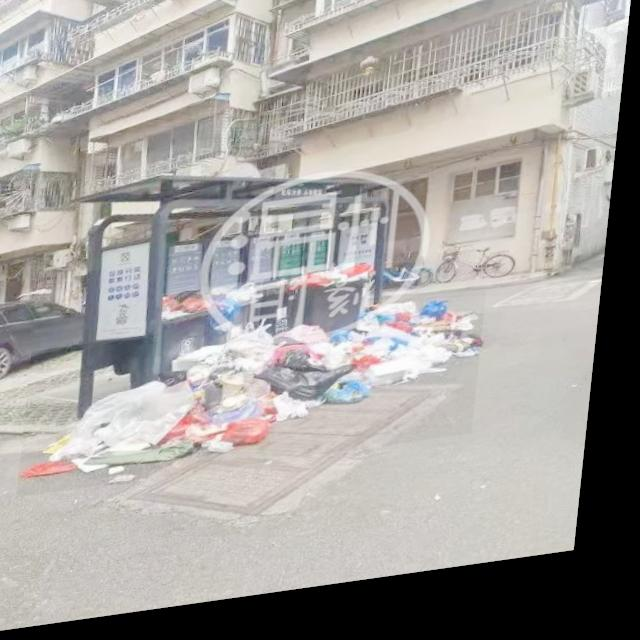garbage: (28, 303, 494, 500)
overflow: (293, 271, 381, 347), (162, 294, 221, 380), (213, 288, 271, 354)
